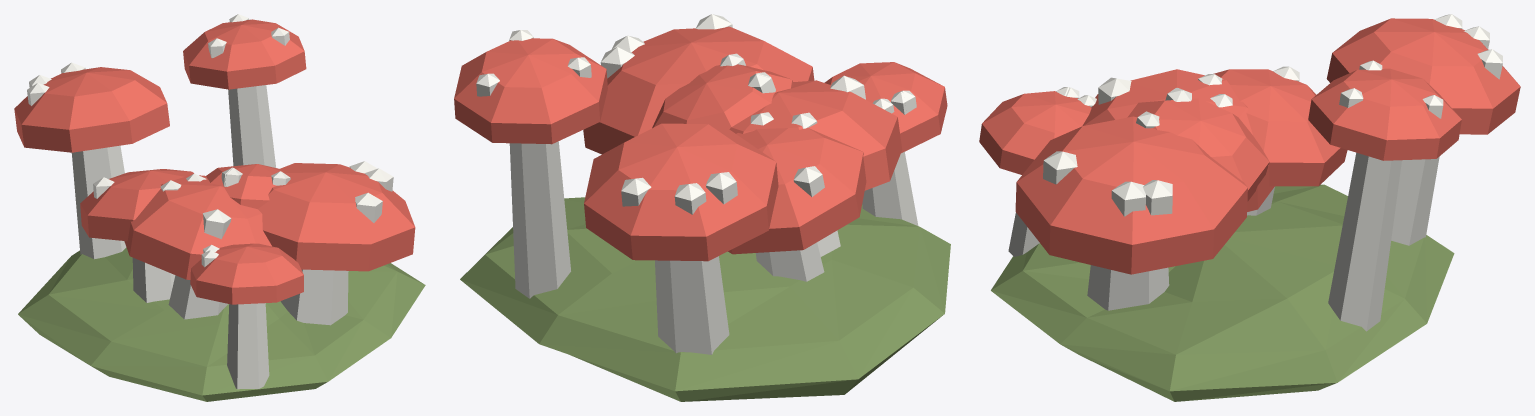
File: mushrooms_red.glb
3 views of the same model, side by side, from view 1: azimuth 30°, elevation 25°; view 2: azimuth 150°, elevation 25°; view 3: azimuth 270°, elevation 25° (orthographic). The views are drawn at different scales.
Visible parts, largest first — view 1: mushrooms_red; view 2: mushrooms_red; view 3: mushrooms_red.
Boxes of the visible parts, <box> form: mushrooms_red: <box>14,14,425,401</box>; mushrooms_red: <box>454,14,950,401</box>; mushrooms_red: <box>979,14,1520,401</box>.
Size of the model in its own units: 0.6908 by 0.5089 by 0.8037.
